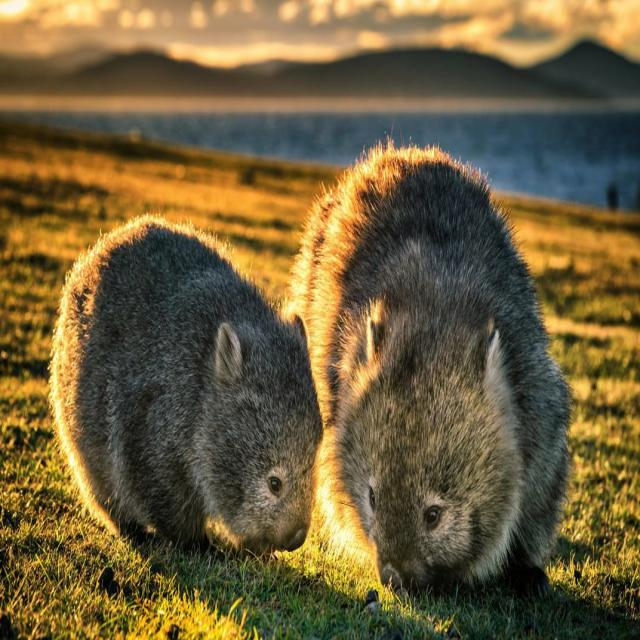wombats: (50, 141, 571, 594)
